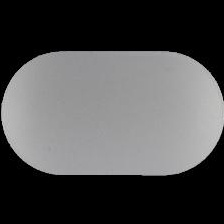66267-039: (0, 0, 224, 224)
